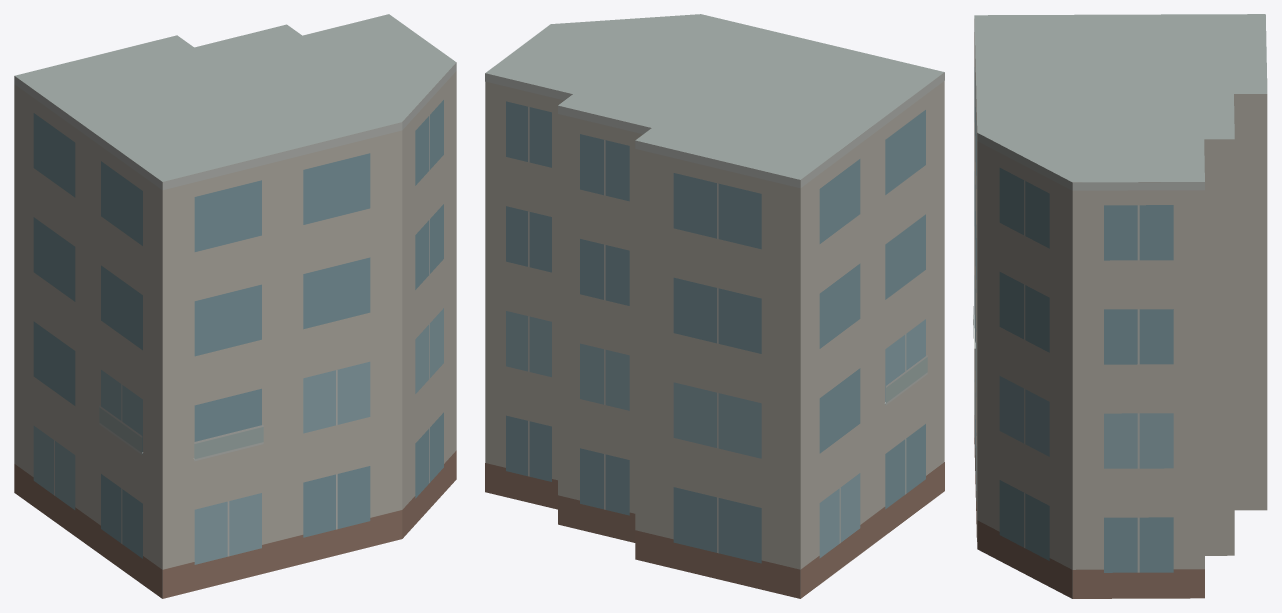
The model's file is residential-7e05d999-d1af-4daa-b932-1348b6fff65f.glb.
3 views of the same model, side by side, from view 1: azimuth 30°, elevation 25°; view 2: azimuth 150°, elevation 25°; view 3: azimuth 270°, elevation 25° (orthographic).
Visible parts, largest first — view 1: residential-7e05d999-d1af-4daa-b932-1348b6fff65f.tmp; view 2: residential-7e05d999-d1af-4daa-b932-1348b6fff65f.tmp; view 3: residential-7e05d999-d1af-4daa-b932-1348b6fff65f.tmp.
Boxes of the visible parts, box(x1,y1,x2,y2) form: residential-7e05d999-d1af-4daa-b932-1348b6fff65f.tmp: box(14, 14, 456, 598); residential-7e05d999-d1af-4daa-b932-1348b6fff65f.tmp: box(485, 14, 944, 598); residential-7e05d999-d1af-4daa-b932-1348b6fff65f.tmp: box(973, 14, 1267, 598).
Bounding box in the file's own units: 10.59 × 12.2 × 7.82.
